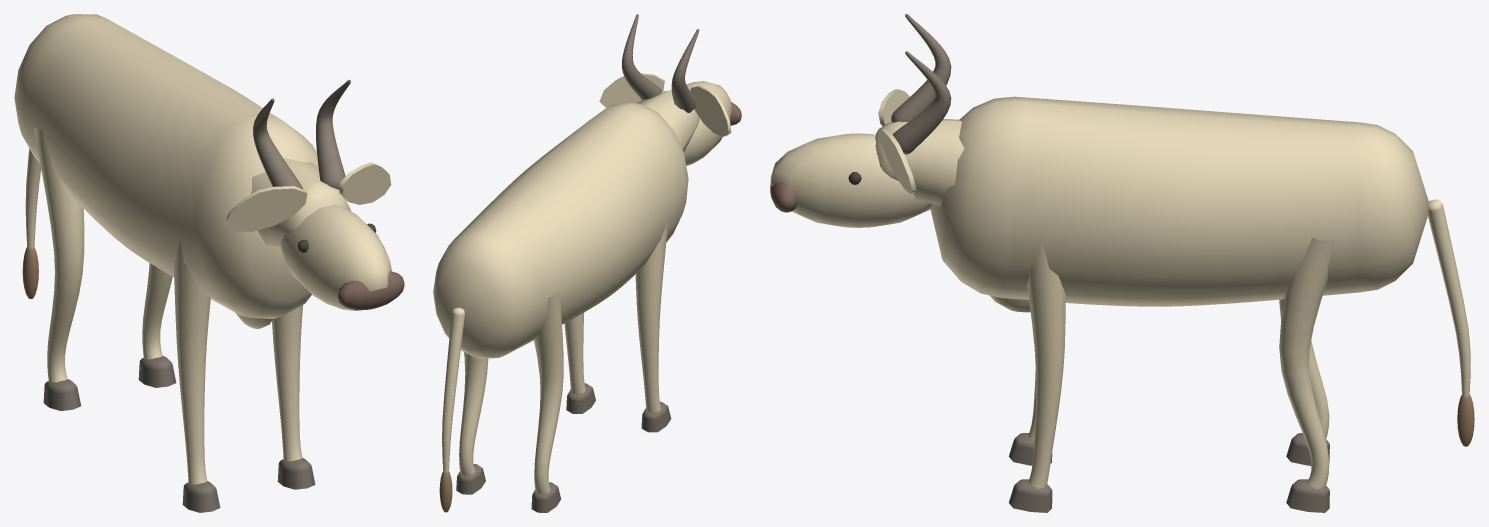
Rendered from savanna-wildlife-common-eland-87968ca6__6540.glb.
3 views of the same model, side by side, from view 1: azimuth 30°, elevation 25°; view 2: azimuth 150°, elevation 25°; view 3: azimuth 270°, elevation 25° (orthographic). The views are drawn at different scales.
Visible parts, largest first — view 1: common-eland; view 2: common-eland; view 3: common-eland.
Part boxes in pixels (x1,y1,x2,y2): common-eland: (14,14,404,512); common-eland: (433,14,741,512); common-eland: (770,14,1474,512).
Size of the model in its own units: 1.04 by 2.71 by 3.83.
